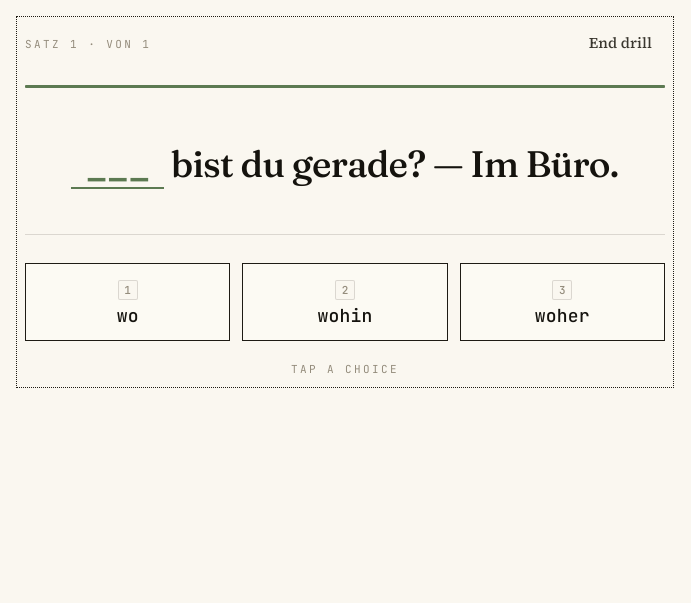
it: QuestionWordRunner — reveal content (always shown, win or lose) › shows the filled sentence and translation after a wrong pick
Click the button with class "choice" showing "2 wohin".
click(345, 302)  # box [242,263,448,341]
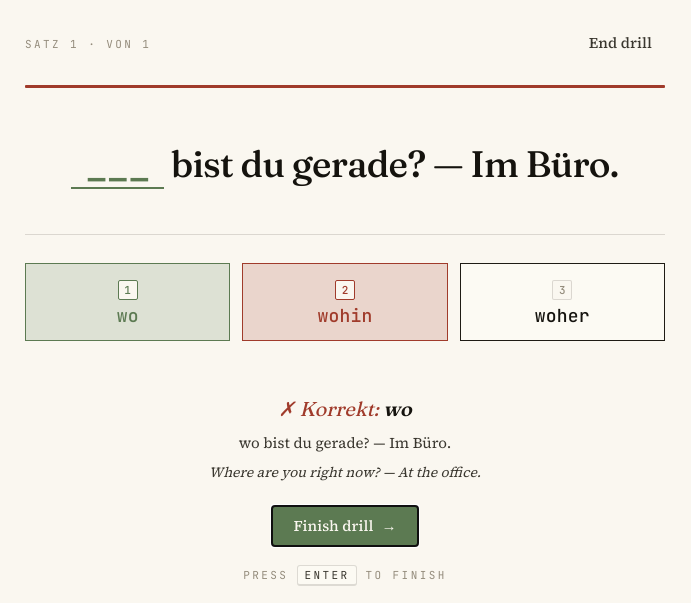
Check: the element with class "drill-feedback" is shown, box [209,396,481,547]
Check: the element with class "drill-feedback" shows "Where are you right now? — At the office.", box [209,462,481,482]
